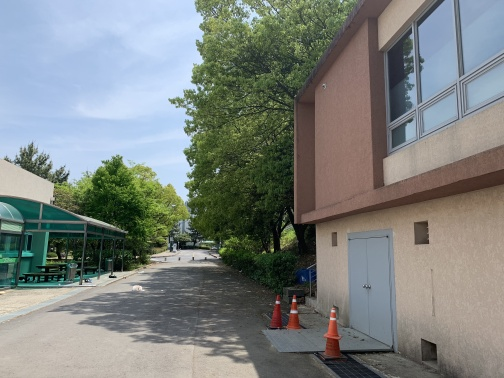Ara Hall: (2, 179, 129, 295)
